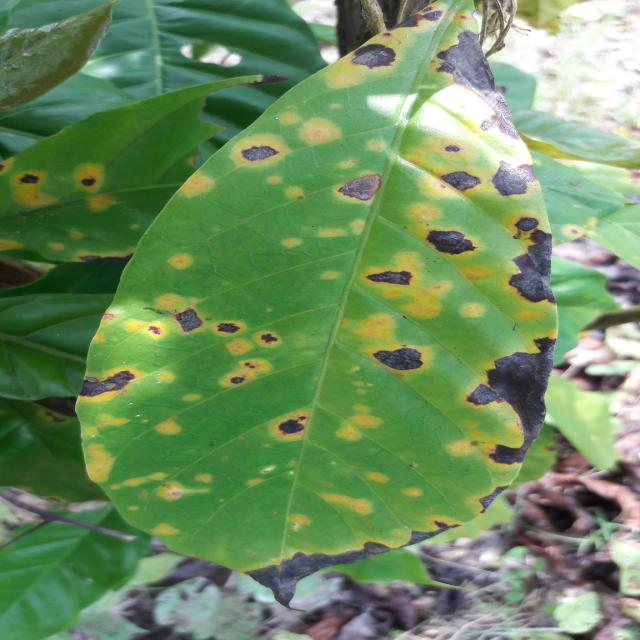Enfermedad-Roya: (68, 3, 559, 614)
